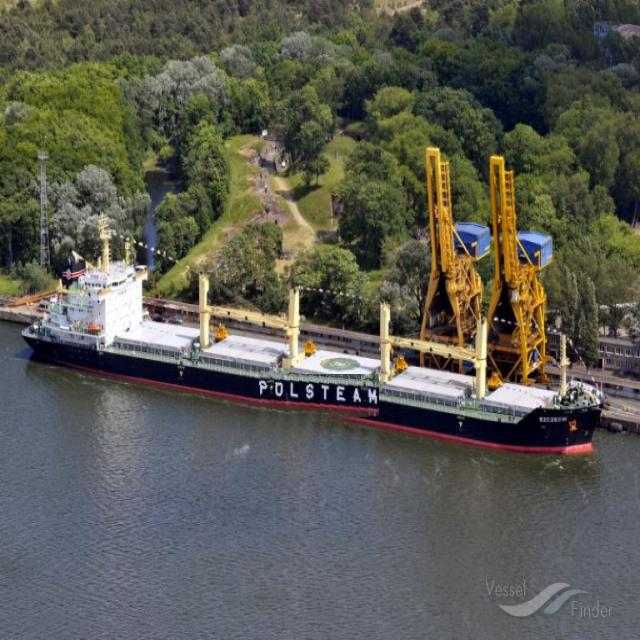OCR: (256, 374, 380, 428)
